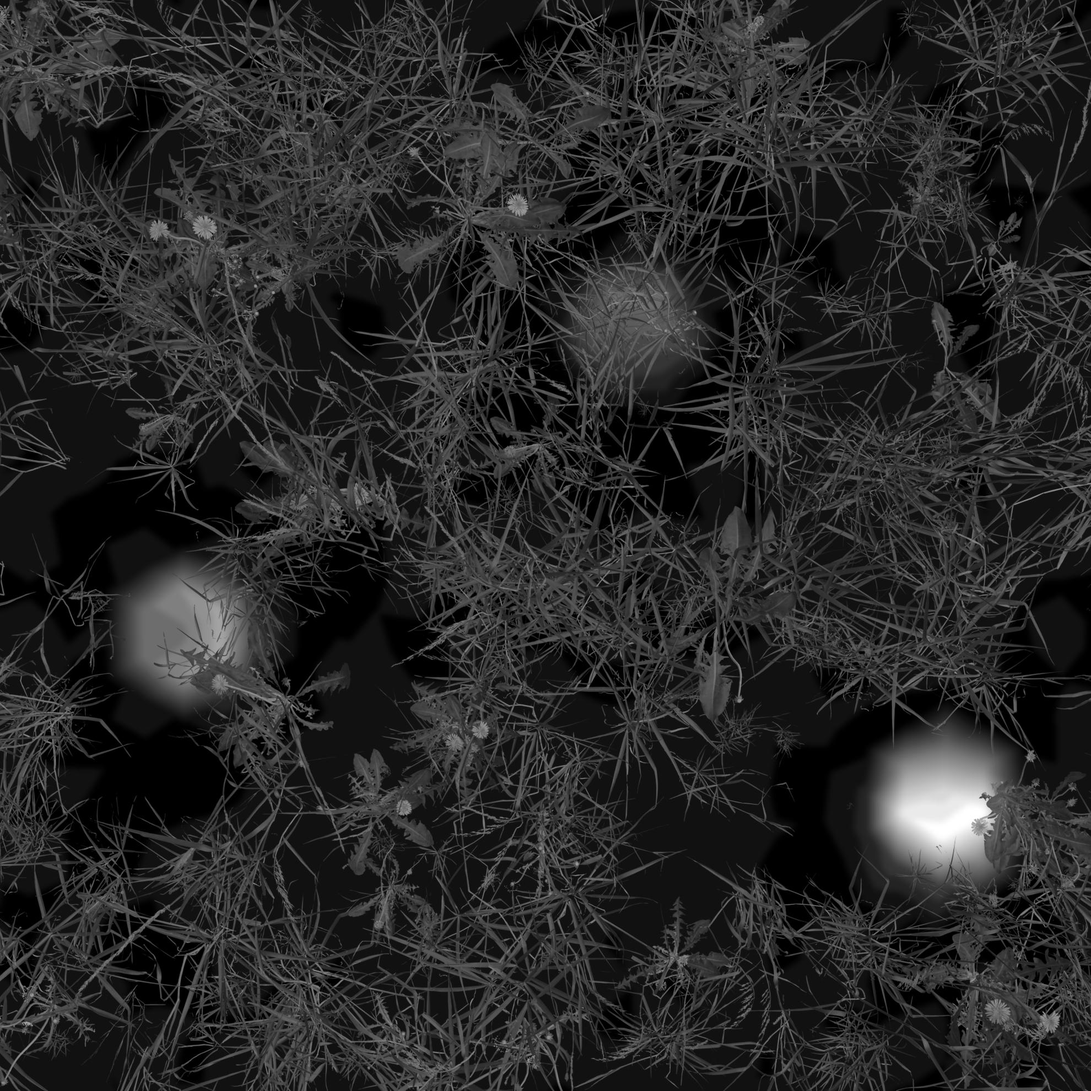landmine: (108, 542, 273, 717), (868, 729, 1031, 885), (563, 256, 704, 400)
